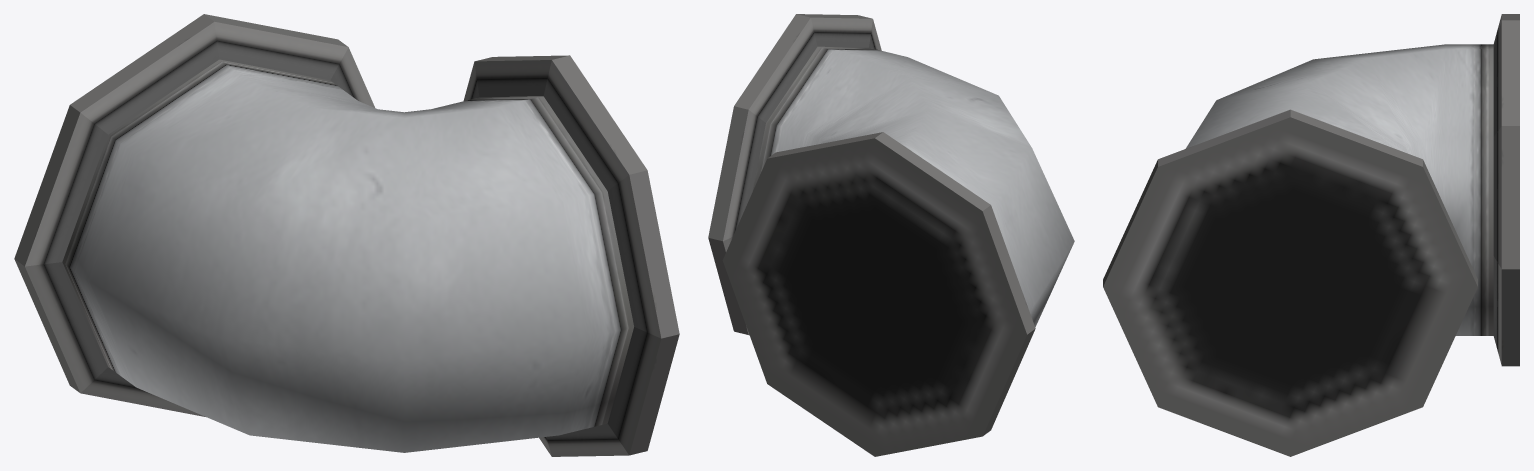
The model's file is pipe_L.glb.
3 views of the same model, side by side, from view 1: azimuth 30°, elevation 25°; view 2: azimuth 150°, elevation 25°; view 3: azimuth 270°, elevation 25° (orthographic). The views are drawn at different scales.
Parts seen in each view (by area): view 1: zhuti.II.021; view 2: zhuti.II.021; view 3: zhuti.II.021.
Part boxes in pixels (<box>): zhuti.II.021: <box>14,14,679,456</box>; zhuti.II.021: <box>708,14,1074,456</box>; zhuti.II.021: <box>1103,14,1519,456</box>.
Bounding box in the file's own units: 9.09 × 8.17 × 9.09.
1 material, 1 textured.
